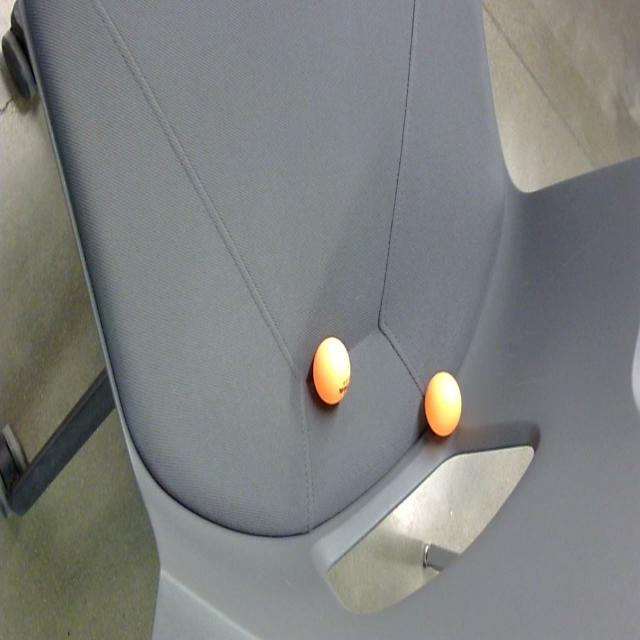ball: (311, 332, 352, 408), (423, 370, 464, 440)
